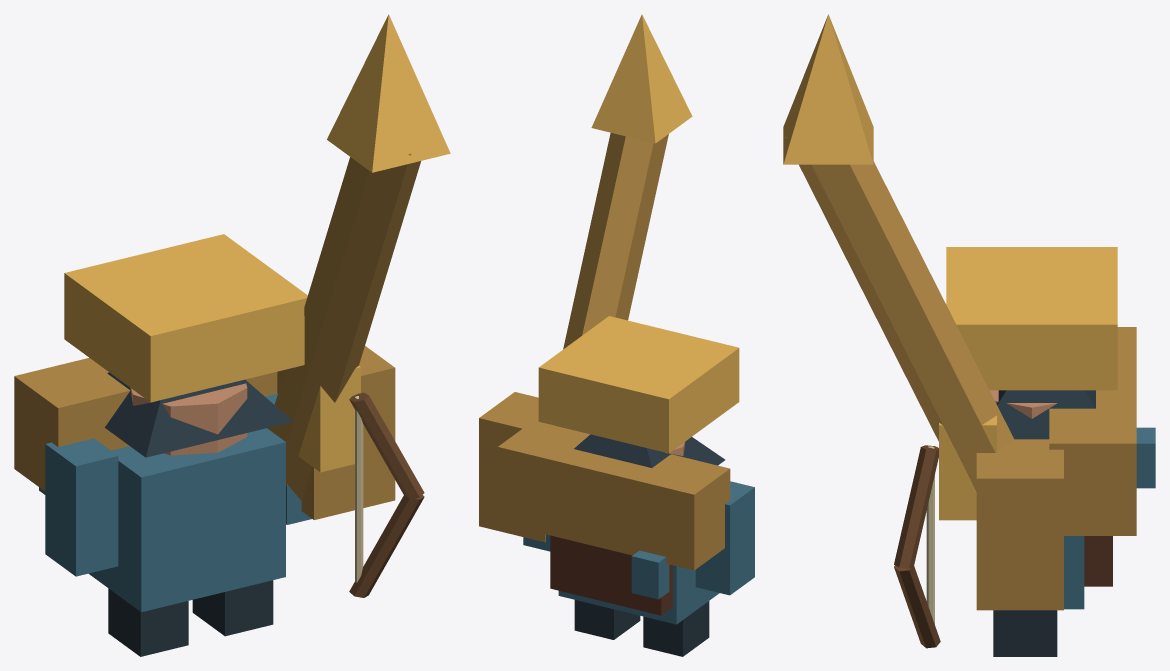
Rendered from anti-air-infantry.obj.
The picture shows the model from 3 angles, left to right: view 1: azimuth 30°, elevation 25°; view 2: azimuth 150°, elevation 25°; view 3: azimuth 270°, elevation 25°; orthographic projection. The views are drawn at different scales.
Parts seen in each view (by area): view 1: ranged; view 2: ranged; view 3: ranged.
Part boxes in pixels (left/top/right/bottom): ranged: left=14, top=14, right=450, bottom=656; ranged: left=479, top=14, right=754, bottom=656; ranged: left=783, top=14, right=1155, bottom=656.
Size of the model in its own units: 1.21 by 2.5 by 1.28.
